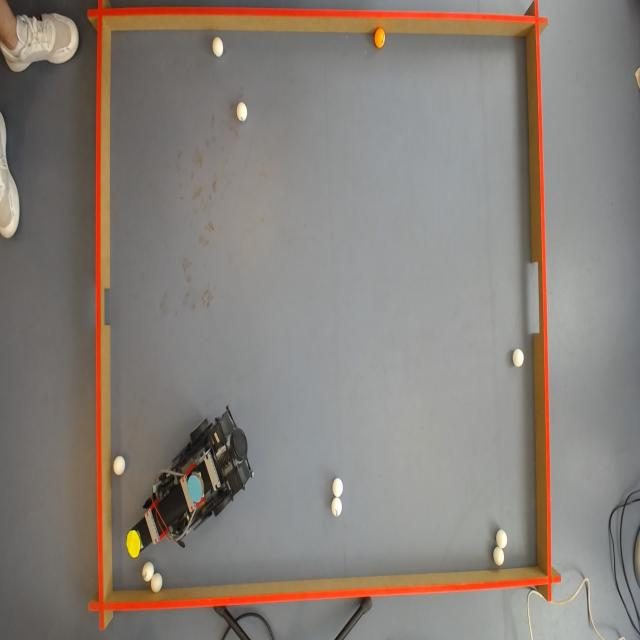orange: (374, 26, 386, 48)
robot: (132, 419, 248, 557)
robot-front: (126, 530, 141, 558)
robot-rear: (187, 474, 202, 502)
white: (212, 37, 226, 61), (235, 101, 249, 122), (511, 348, 525, 367), (498, 529, 510, 550), (494, 546, 506, 567), (152, 575, 165, 594), (142, 562, 153, 584), (114, 458, 127, 476), (332, 478, 344, 497), (333, 498, 344, 516)
